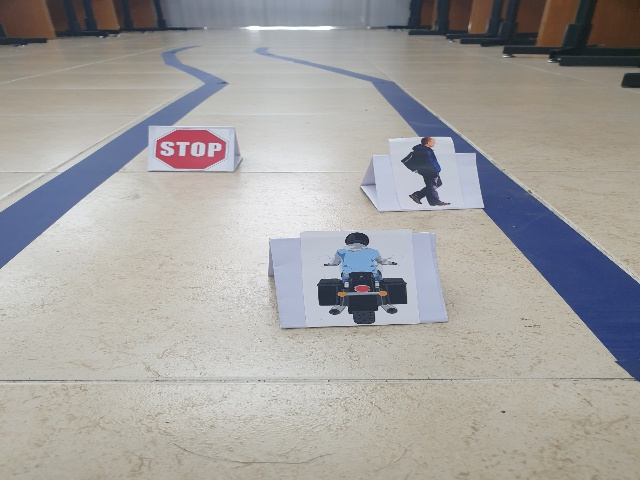Motorcycle: (316, 233, 410, 324)
Person: (400, 138, 449, 207)
Stop: (152, 128, 227, 171)
